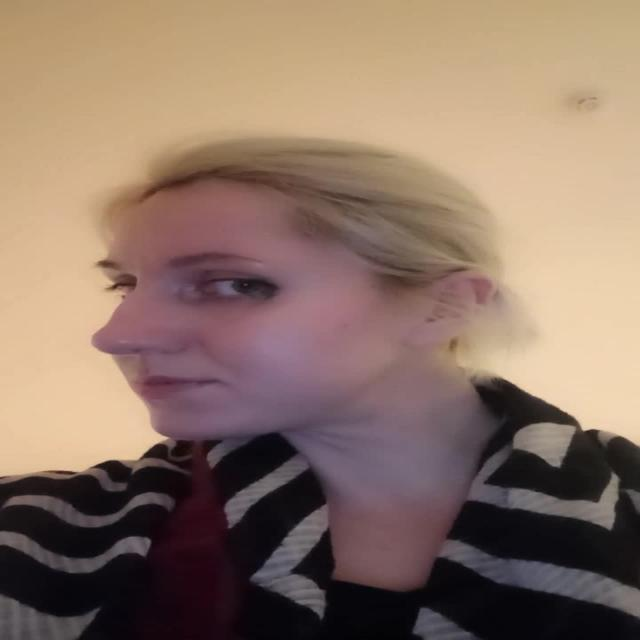earlobe: (404, 320, 443, 350)
eye: (198, 277, 270, 298), (114, 278, 141, 300)
nose: (90, 338, 193, 380)
wholeear: (405, 269, 500, 350)
